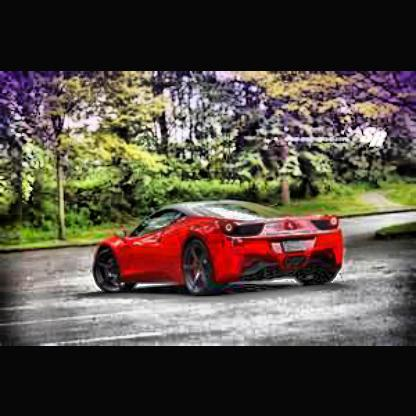Ferrari 458 Italia Coupe 2012: (96, 202, 349, 297)
